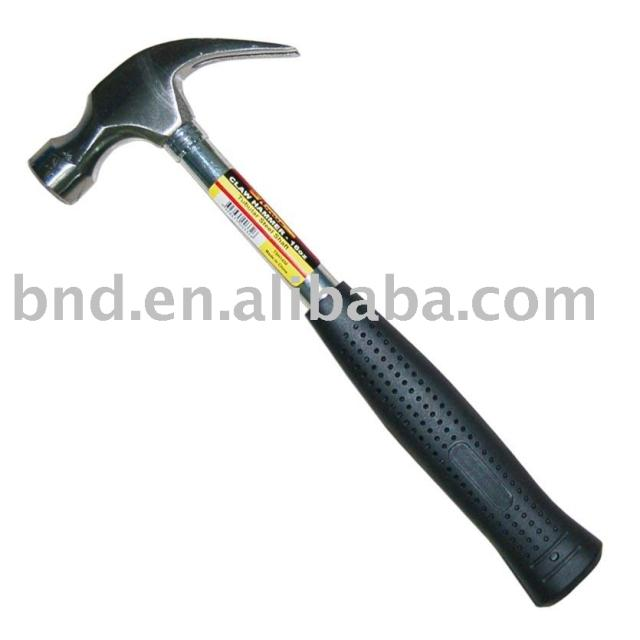hammer: (11, 14, 604, 614)
